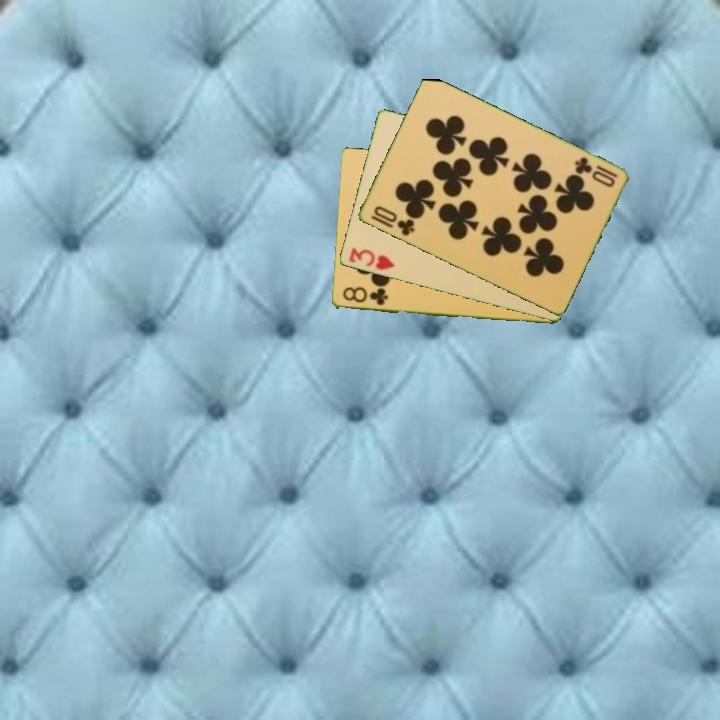10c: (571, 153, 620, 190), (370, 202, 417, 239)
3h: (345, 244, 398, 273)
8c: (339, 283, 391, 309)
